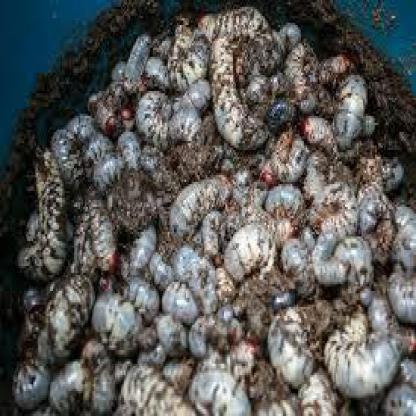root grubs: (324, 316, 402, 404), (171, 176, 232, 243), (227, 222, 278, 280)
